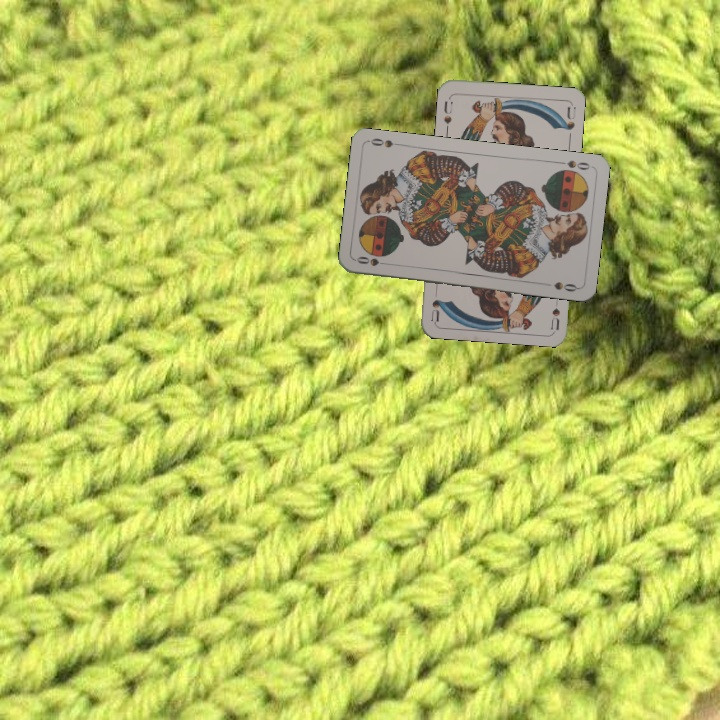SO: (553, 156, 593, 173), (353, 252, 393, 268)
SU: (547, 290, 563, 331), (440, 97, 455, 134)
